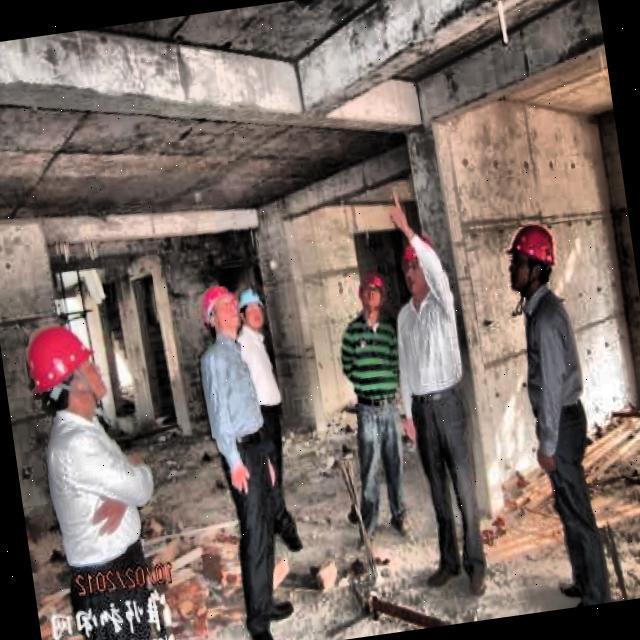helmet: (17, 319, 112, 432), (496, 216, 564, 304), (392, 231, 441, 304), (197, 280, 241, 340), (345, 264, 390, 316), (235, 282, 272, 335)
